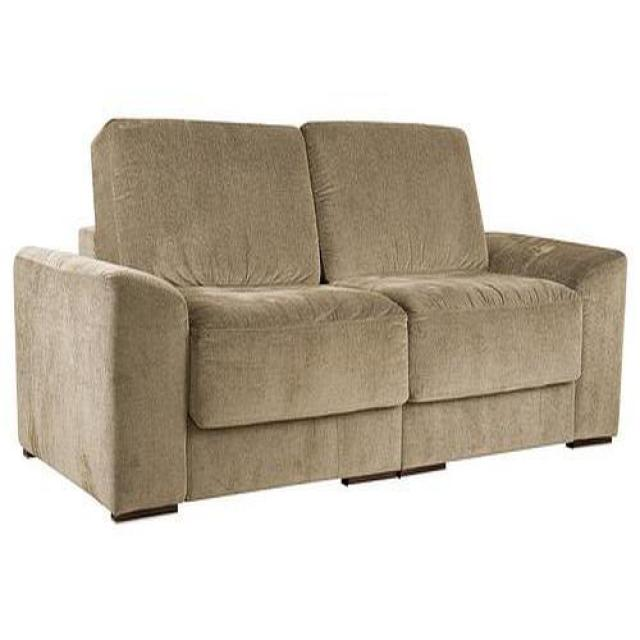sofa: (13, 118, 627, 522)
